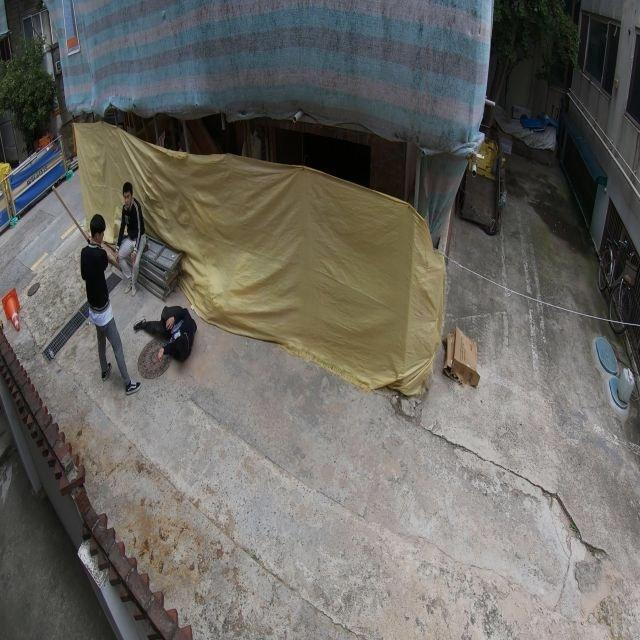fight: (80, 212, 194, 396)
non-fight: (111, 180, 150, 298)
